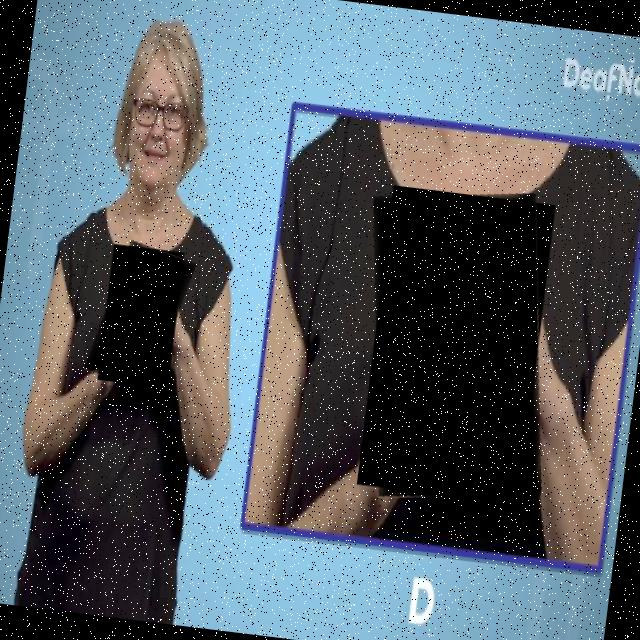D: (348, 182, 568, 513), (90, 241, 192, 394)
